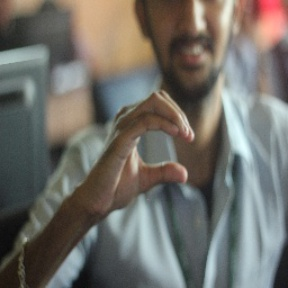C: (111, 88, 198, 195)
